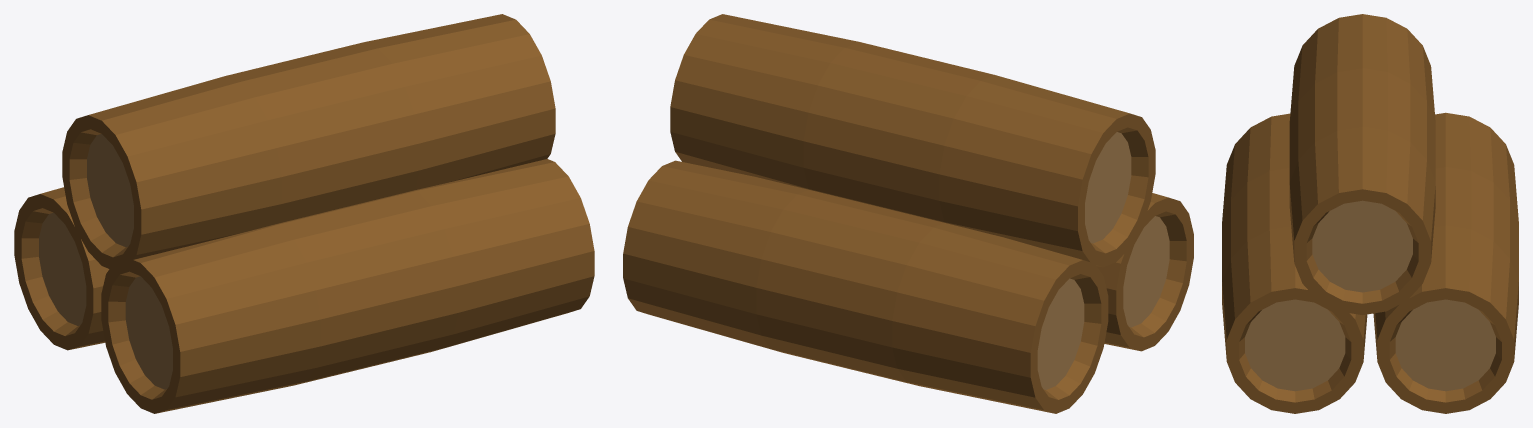
File: Wood.fbx
3 views of the same model, side by side, from view 1: azimuth 30°, elevation 25°; view 2: azimuth 150°, elevation 25°; view 3: azimuth 270°, elevation 25° (orthographic). The views are drawn at different scales.
Parts seen in each view (by area): view 1: Wood; view 2: Wood; view 3: Wood.
Part boxes in pixels (x1,y1,x2,y2): Wood: (14,14,594,413); Wood: (623,14,1193,413); Wood: (1222,14,1518,413).
Size of the model in its own units: 0.2475 by 0.1536 by 0.1771.
